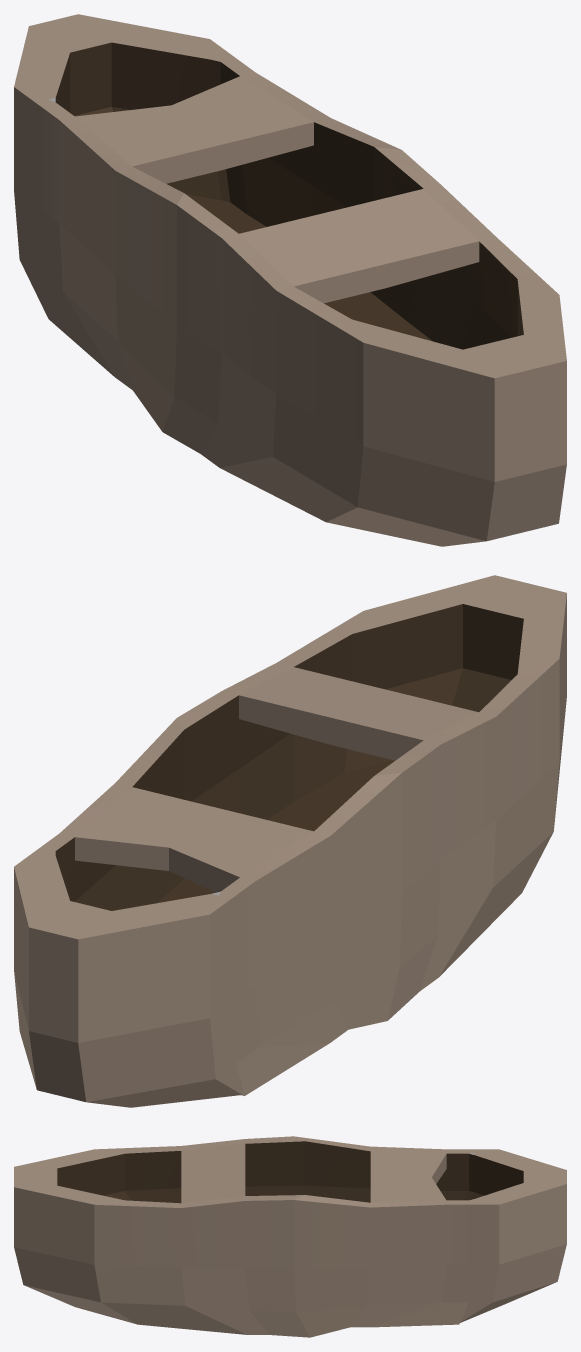
File: boat.fbx
The picture shows the model from 3 angles, top to bottom: view 1: azimuth 30°, elevation 25°; view 2: azimuth 150°, elevation 25°; view 3: azimuth 270°, elevation 25°; orthographic projection. The views are drawn at different scales.
Parts seen in each view (by area): view 1: pCube2; view 2: pCube2; view 3: pCube2.
Part boxes in pixels (x1,y1,x2,y2): pCube2: (14,14,566,546); pCube2: (14,575,566,1107); pCube2: (14,1136,566,1337).
Bounding box in the file's own units: 1.15 × 1.16 × 4.22.
